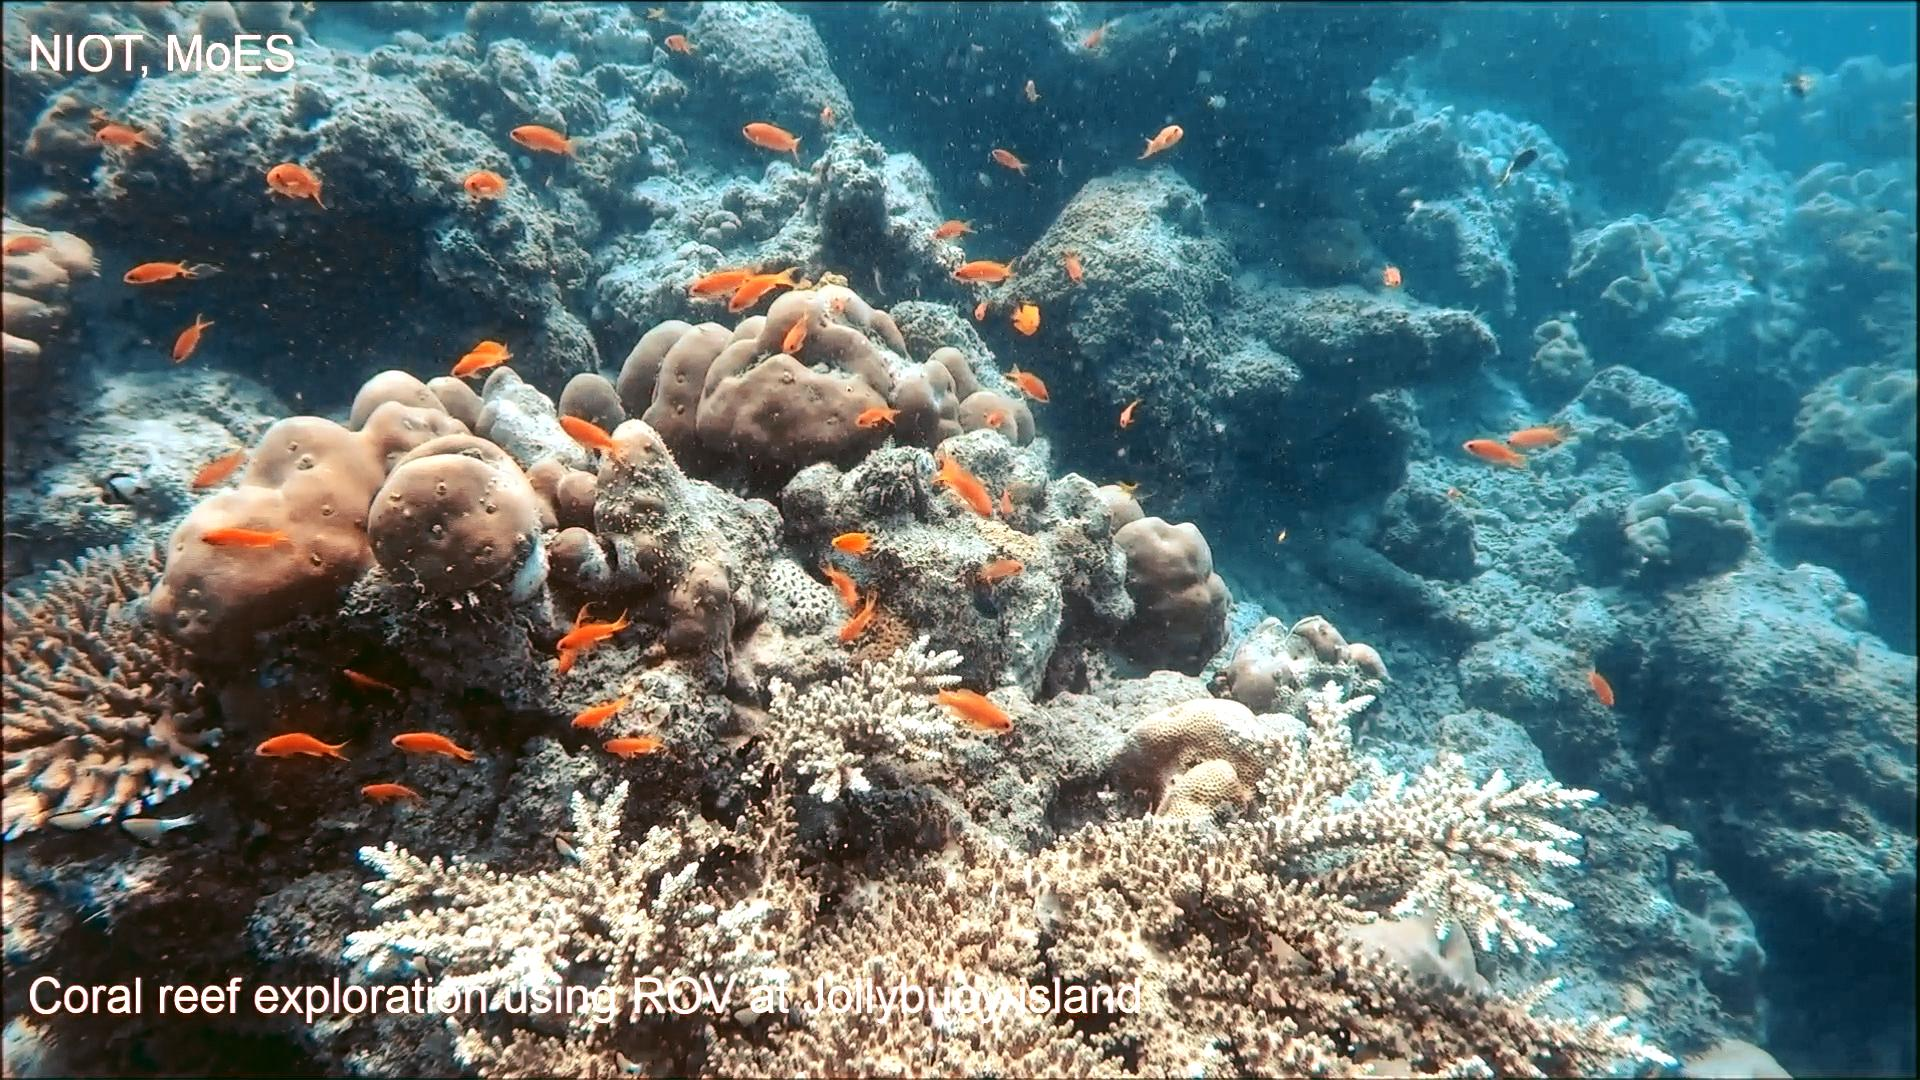Porites-Porites pukoensis: (140, 363, 546, 673), (596, 277, 1048, 479)
